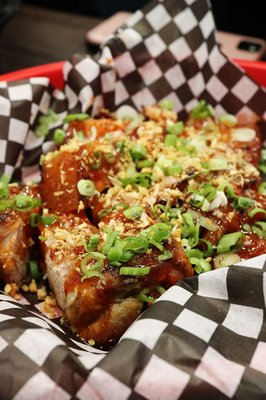burger: (0, 293, 119, 357)
